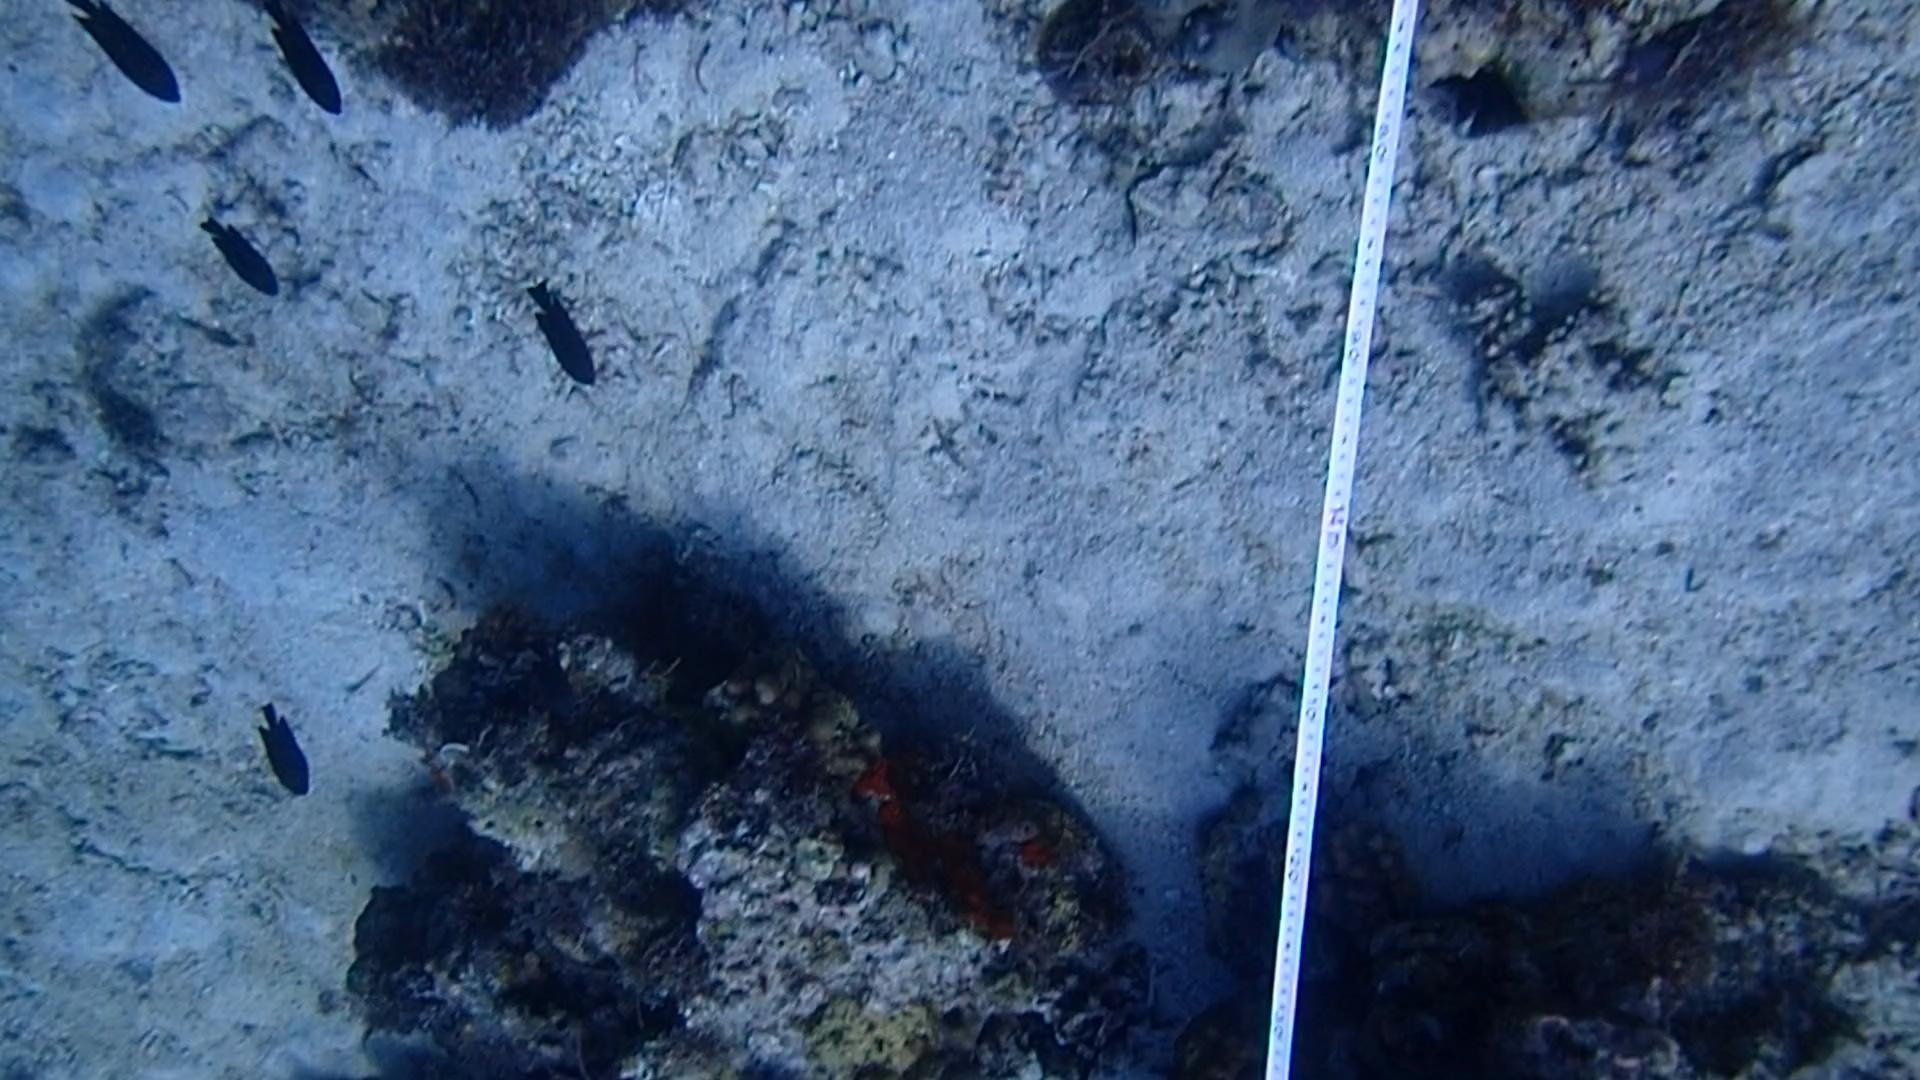Dark Fish: (243, 0, 359, 128), (55, 0, 189, 109), (522, 272, 609, 406), (183, 208, 294, 310), (248, 695, 322, 811)
